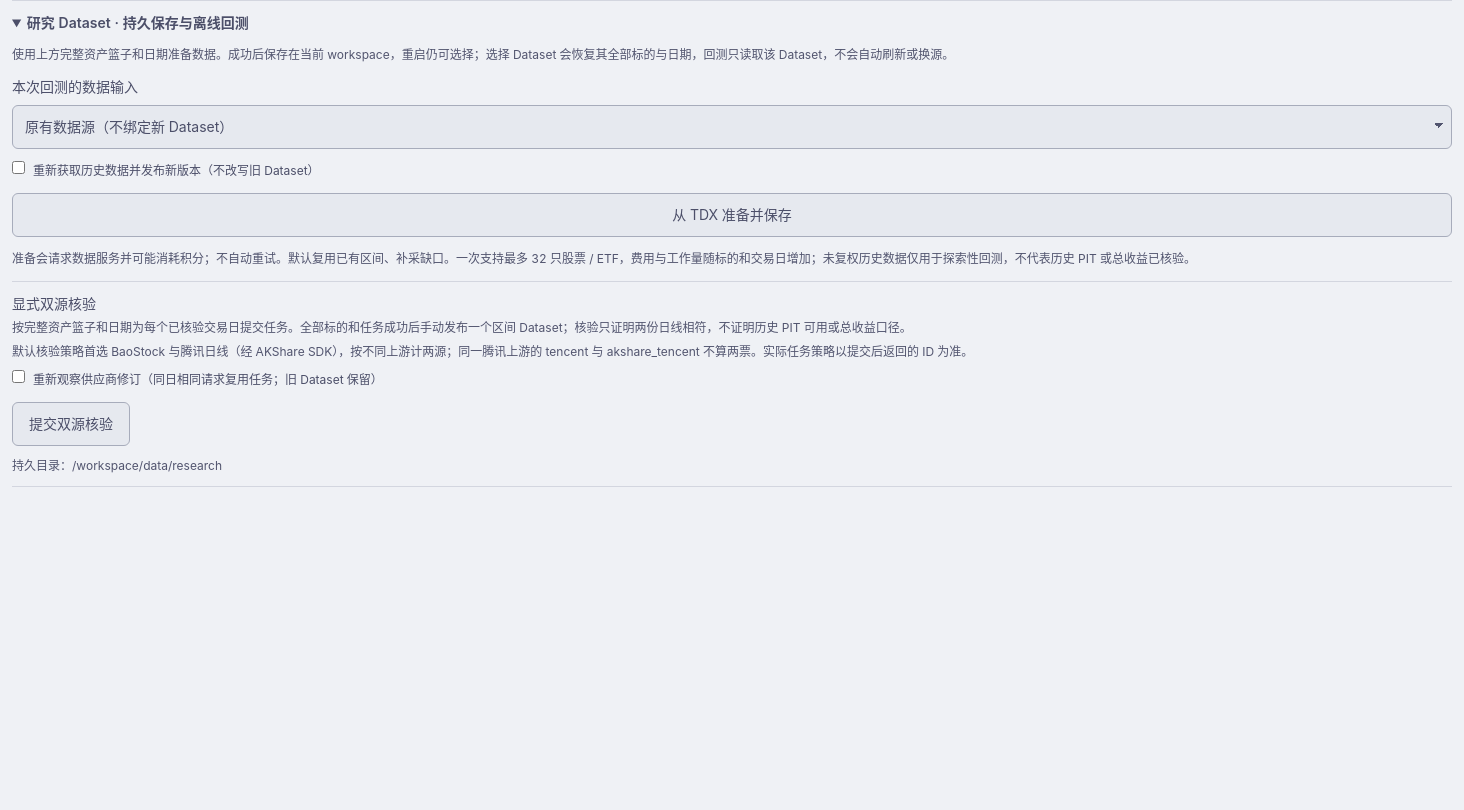
Test: does not publish basket verification with missing or different typed job inputs ({"symbol":"510300","instrument_type":"stock"})
Check: the text "持久目录：/workspace/data/research" is shown, box [12, 458, 222, 473]
Click the button "提交双源核验". click: [71, 424]
box: [12, 402, 130, 446]
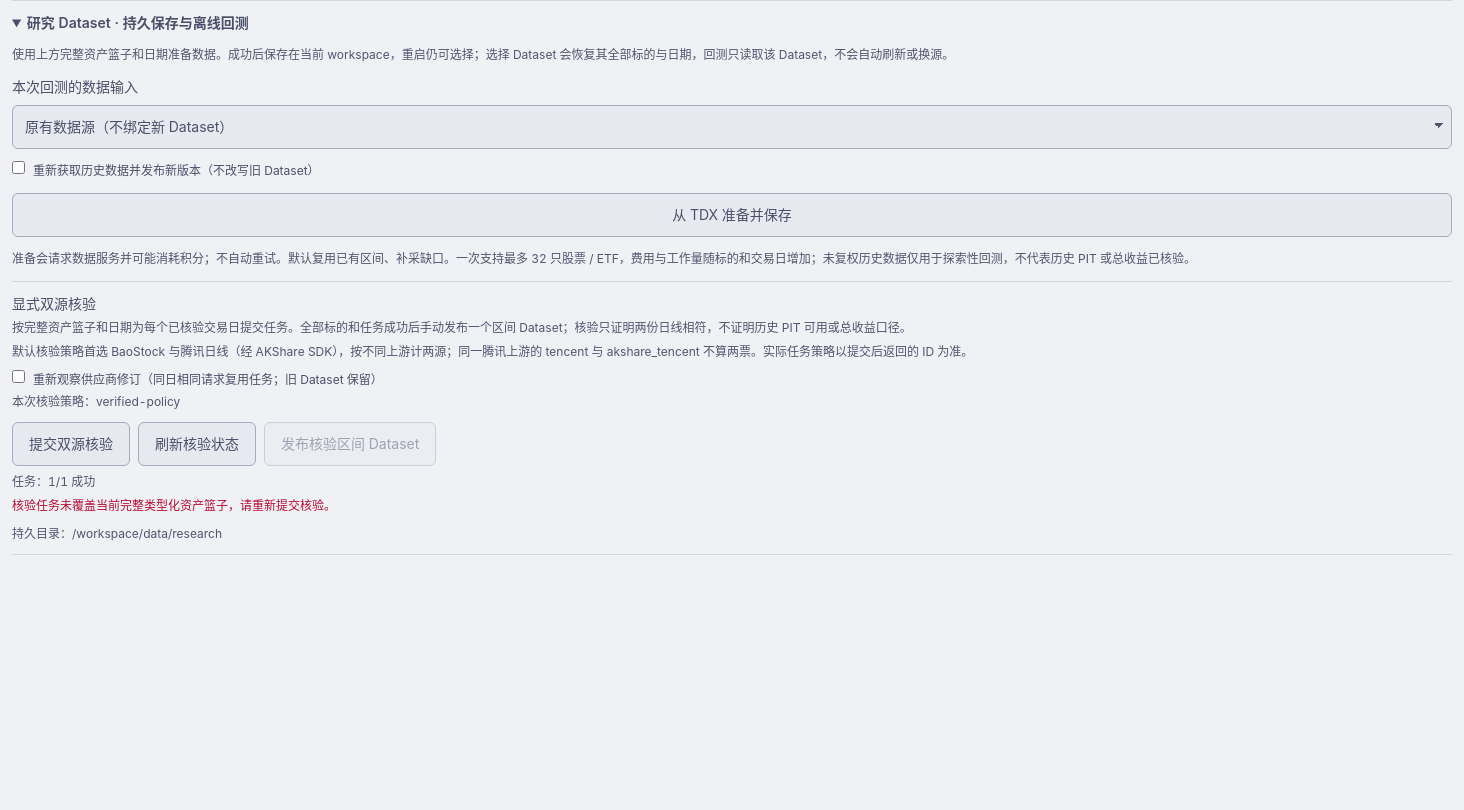
Check: the text "任务：1/1 成功" is shown, box [12, 474, 95, 489]
Check: the button "发布核验区间 Dataset" is disabled, box [264, 422, 436, 466]
Check: the message shows "核验任务未覆盖当前完整类型化资产篮子", box [12, 498, 336, 513]
